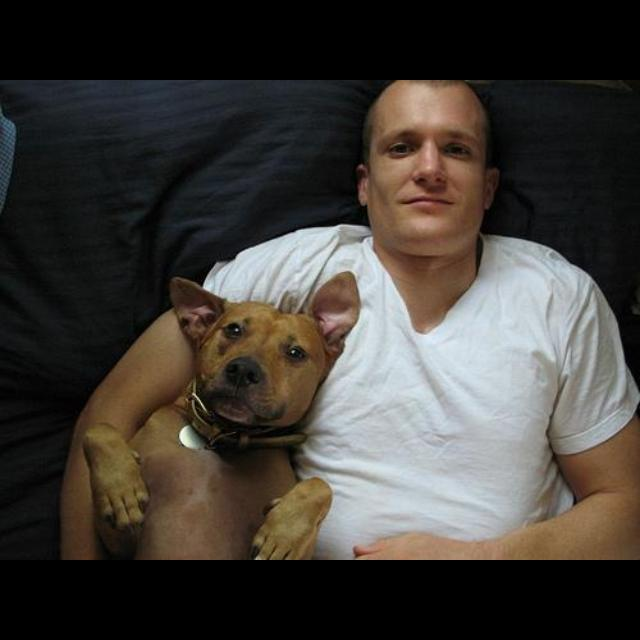amstaff: (82, 271, 362, 560)
face: (356, 82, 500, 260)
person: (62, 82, 640, 559)
